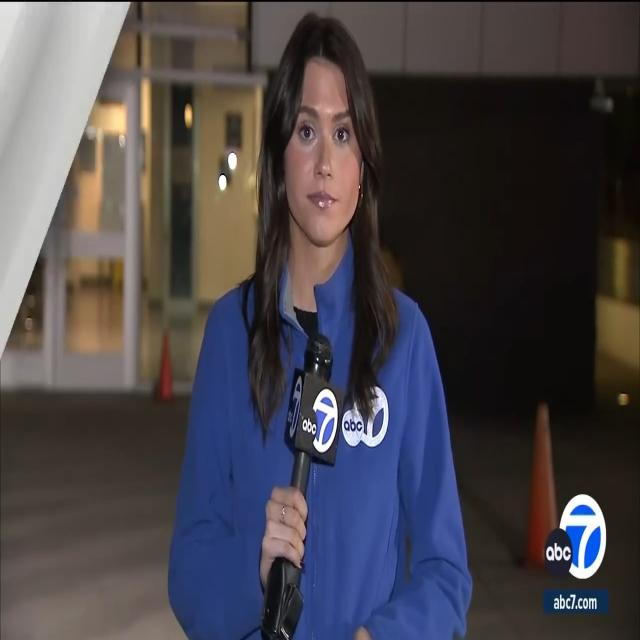microphone: (260, 325, 342, 640)
